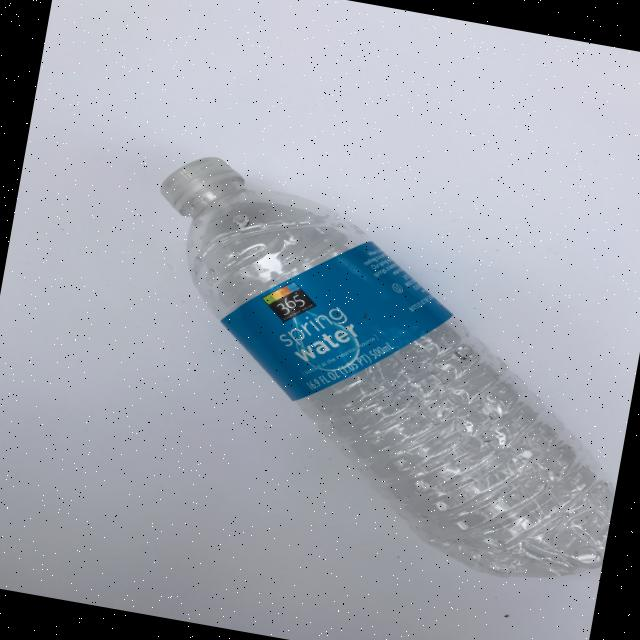plastic: (103, 147, 640, 594)
